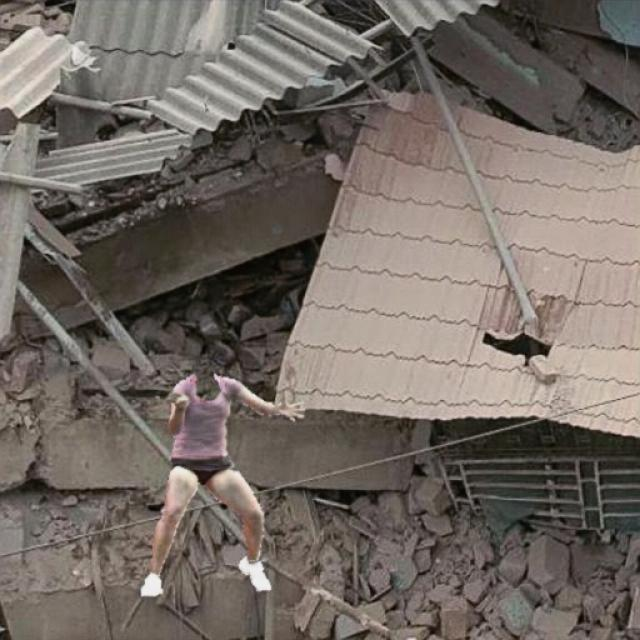Person in Rubble: (141, 374, 304, 596)
